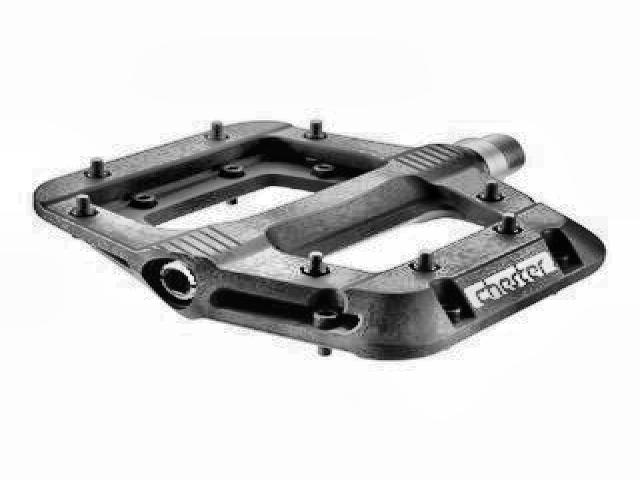pedal: (35, 107, 611, 368)
